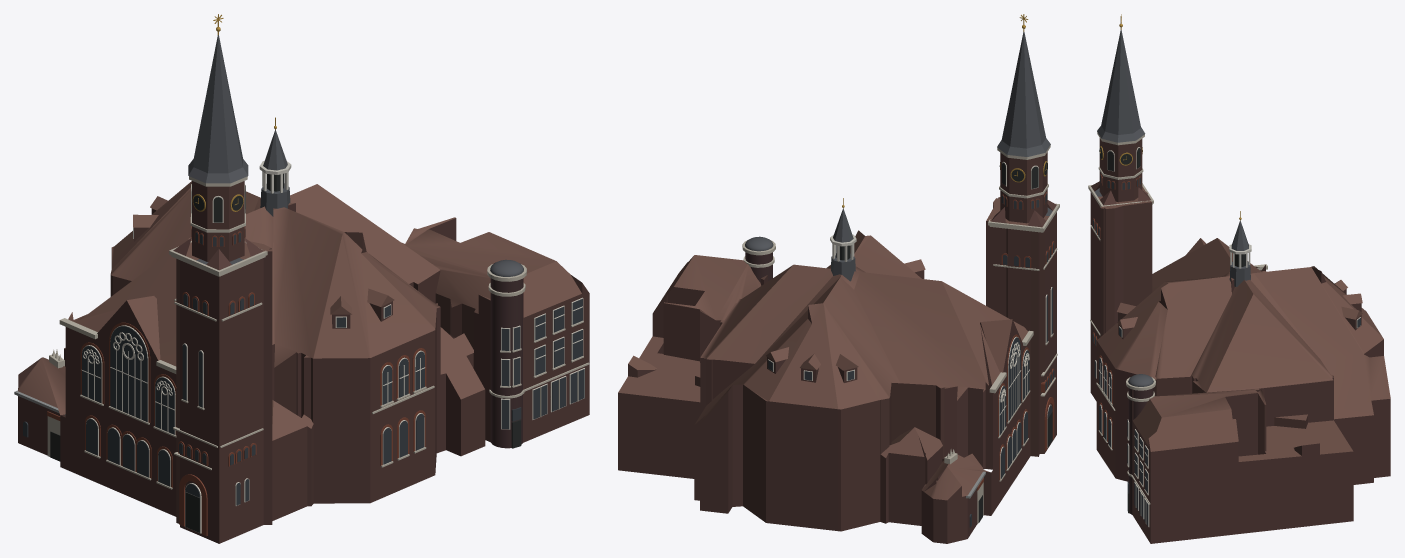
The model's file is oranjekerk-pijp.glb.
3 renders of one model, left to right at view 1: azimuth 30°, elevation 25°; view 2: azimuth 150°, elevation 25°; view 3: azimuth 270°, elevation 25°, orthographic. The views are drawn at different scales.
Visible parts, largest first — view 1: oranjekerk-pijp; view 2: oranjekerk-pijp; view 3: oranjekerk-pijp.
Part boxes in pixels (x1=…): oranjekerk-pijp: x1=14, y1=14, x2=589, y2=543; oranjekerk-pijp: x1=618, y1=14, x2=1059, y2=543; oranjekerk-pijp: x1=1088, y1=14, x2=1390, y2=543.
Size of the model in its own units: 46.53 by 49.25 by 35.02.
